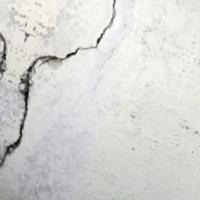crack: (0, 0, 123, 181)
